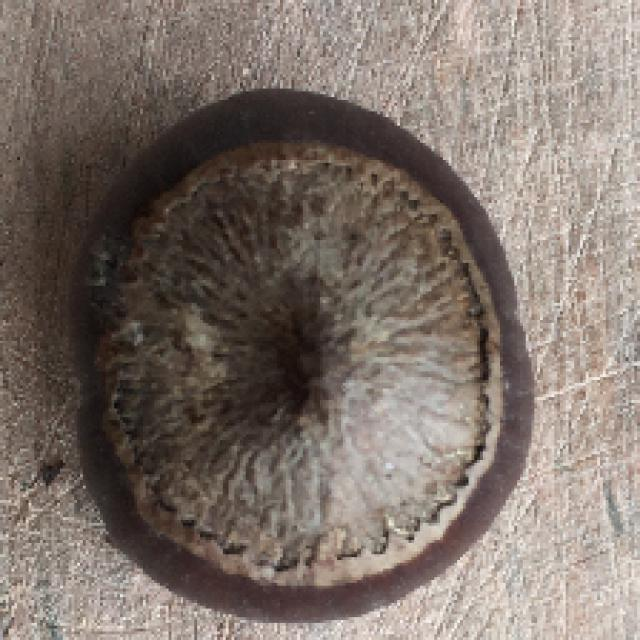damagedHazelnut: (61, 86, 537, 624)
